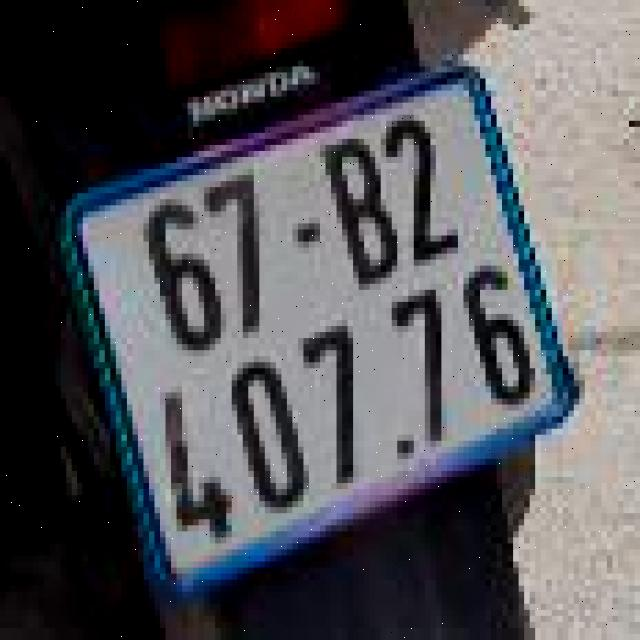0: (203, 342, 320, 536)
2: (370, 104, 477, 282)
4: (136, 370, 251, 564)
6: (126, 181, 239, 375), (452, 243, 557, 426)
7: (372, 278, 468, 467), (198, 157, 281, 362), (286, 315, 376, 503)
B: (307, 124, 415, 304)
